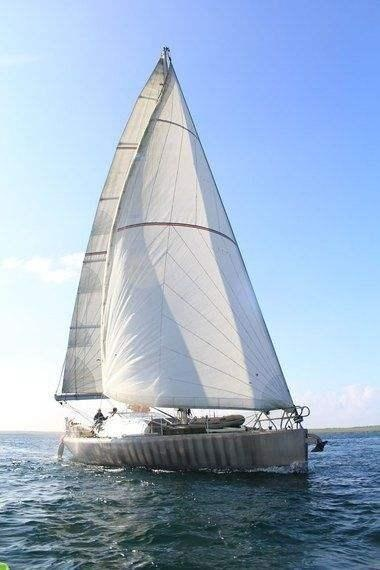fanchuan: (58, 44, 329, 476)
